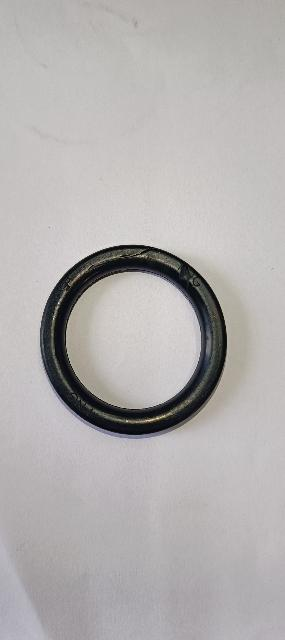scratch: (105, 247, 158, 261), (179, 261, 194, 288), (84, 262, 106, 274)
